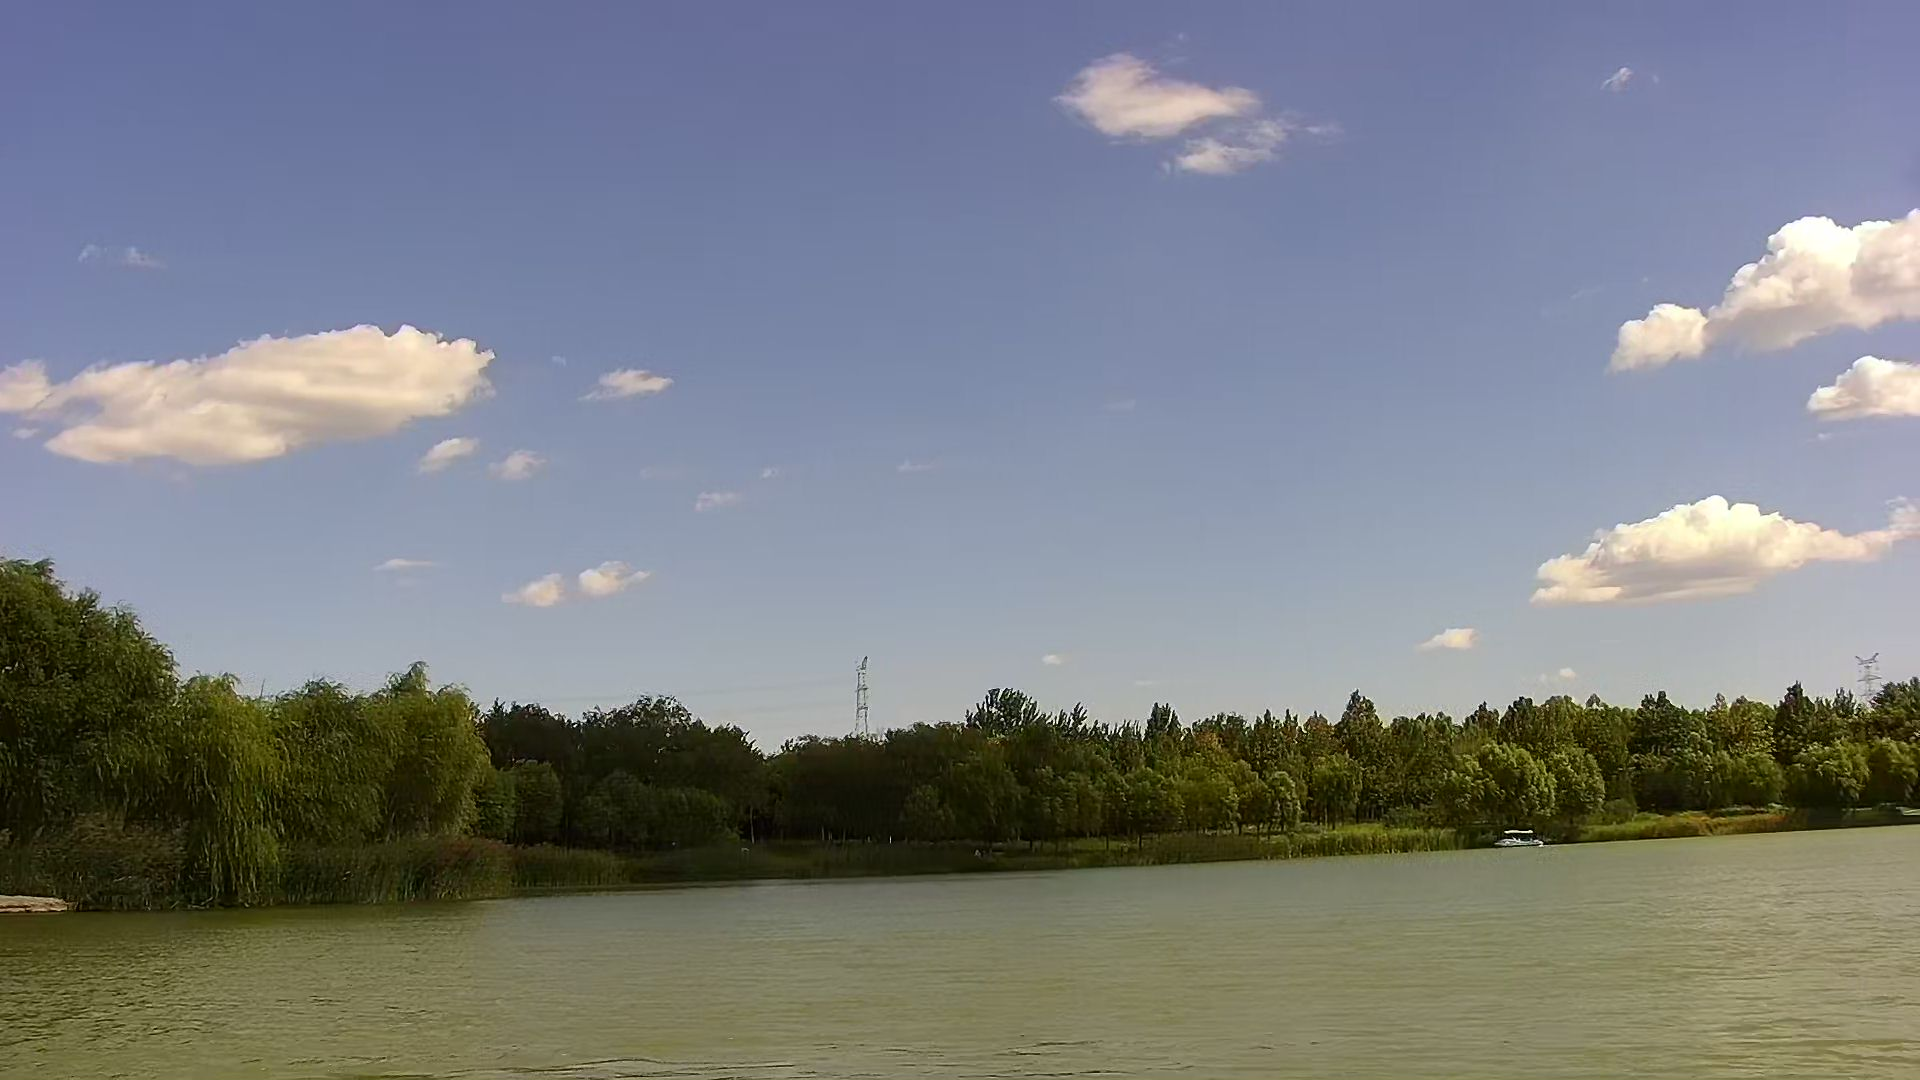boat: (1493, 829, 1547, 851)
